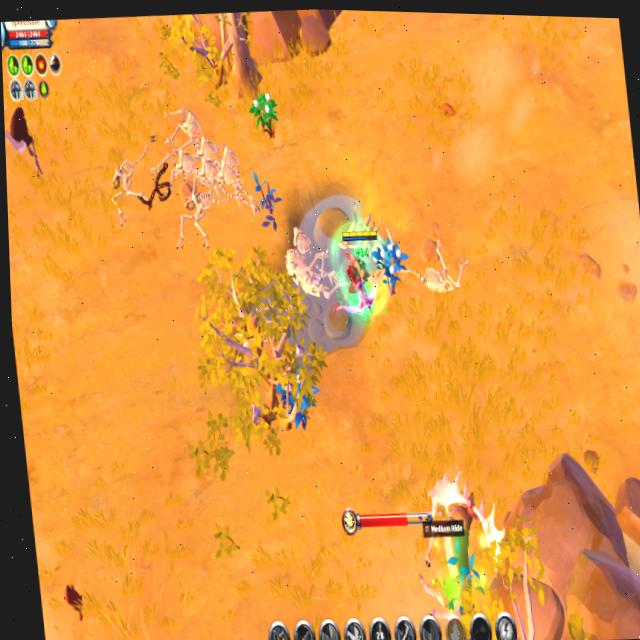hide: (373, 232, 408, 291), (248, 87, 279, 135)
mob: (412, 478, 499, 627)
ore: (4, 99, 46, 180)
red: (340, 227, 382, 311)
